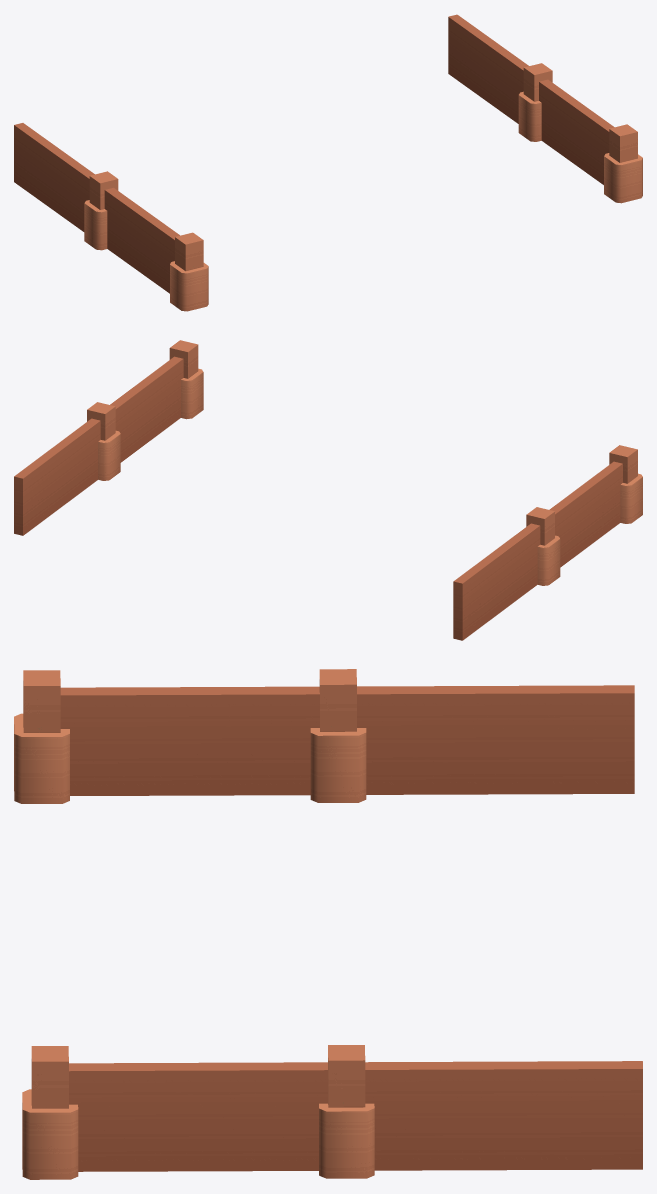
File: fence-low.038_lev3.glb
The picture shows the model from 3 angles, top to bottom: view 1: azimuth 30°, elevation 25°; view 2: azimuth 150°, elevation 25°; view 3: azimuth 270°, elevation 25°; orthographic projection. The views are drawn at different scales.
Parts seen in each view (by area): view 1: fence-low.038_lev3; view 2: fence-low.038_lev3; view 3: fence-low.038_lev3.
Part boxes in pixels (x1,y1,x2,y2): fence-low.038_lev3: [14, 14, 642, 311]; fence-low.038_lev3: [14, 340, 642, 640]; fence-low.038_lev3: [14, 669, 642, 1179].
Bounding box in the file's own units: 10.23 × 1.36 × 6.79.
1 material, 1 textured.
